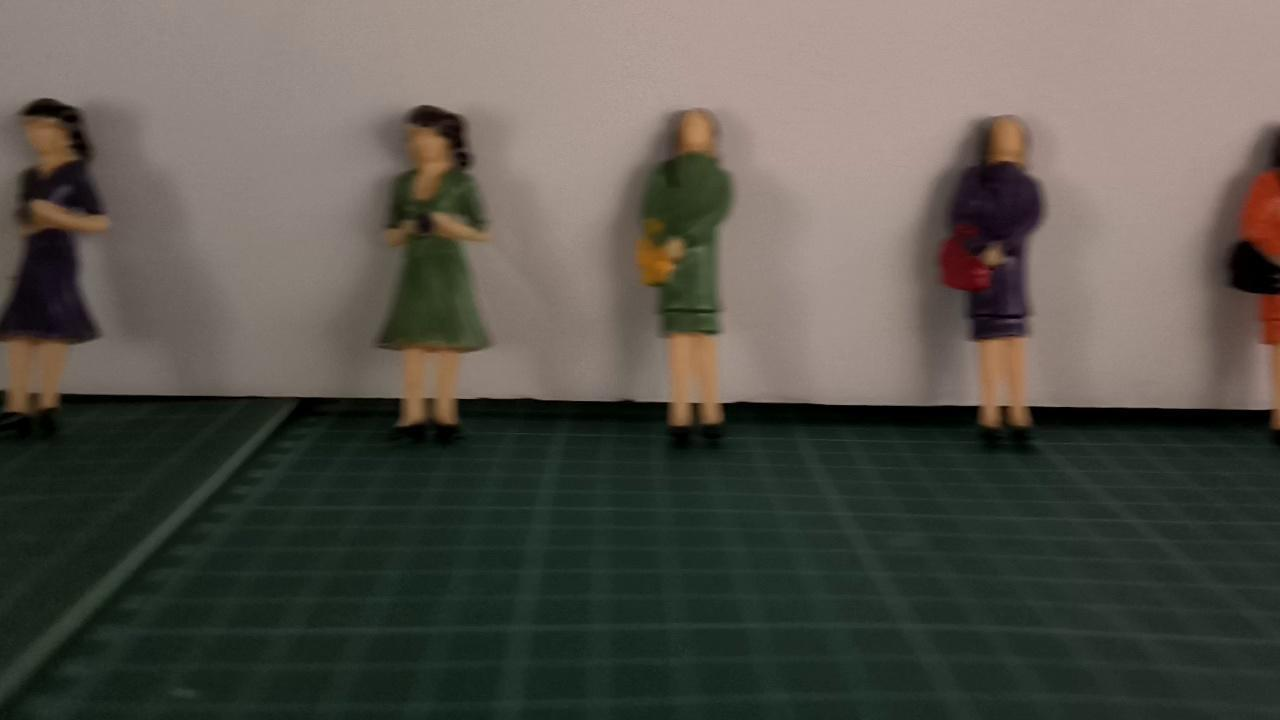human: (368, 102, 501, 438), (0, 92, 120, 434), (933, 113, 1049, 457), (636, 111, 734, 442), (1227, 122, 1280, 445)
